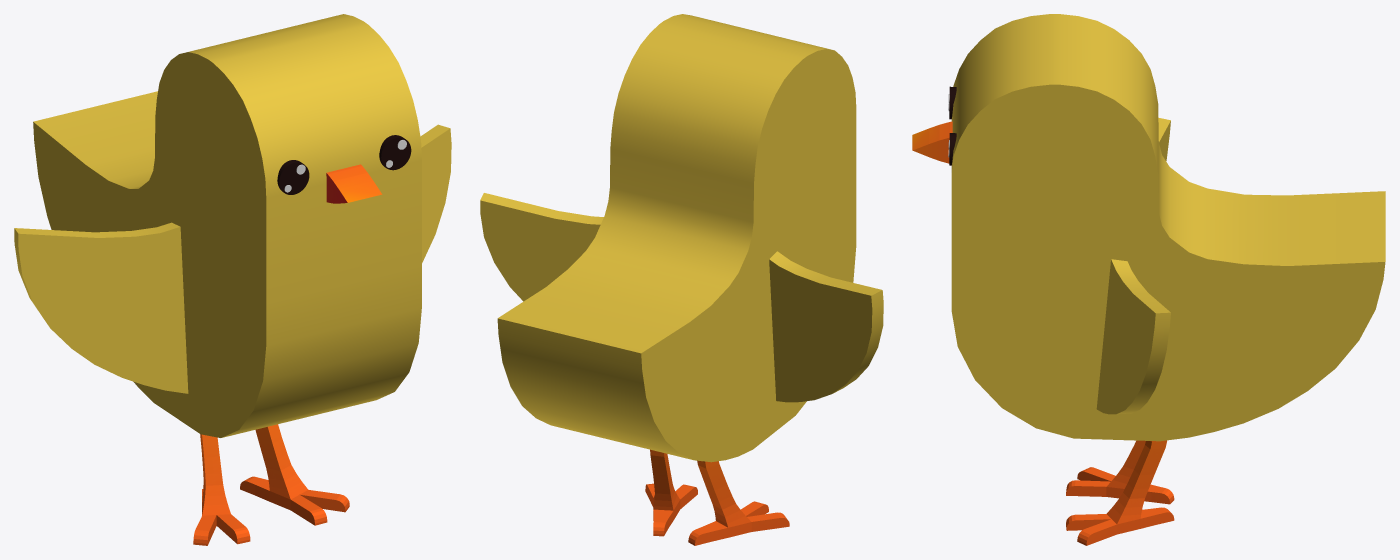
File: Front_Facing_Baby_Chick.gltf
The picture shows the model from 3 angles, left to right: view 1: azimuth 30°, elevation 25°; view 2: azimuth 150°, elevation 25°; view 3: azimuth 270°, elevation 25°; orthographic projection. The views are drawn at different scales.
Parts seen in each view (by area): view 1: Cube.6285, Circle.1946, Cube.6287, Cube.6286; view 2: Cube.6285, Circle.1946, Cube.6287; view 3: Cube.6285, Circle.1946, Cube.6287, Cube.6286.
Boxes of the visible parts, <box> form: Cube.6285: <box>33,14,421,437</box>; Circle.1946: <box>14,124,451,393</box>; Cube.6287: <box>193,424,349,545</box>; Cube.6286: <box>326,164,382,203</box>; Cube.6285: <box>497,14,856,462</box>; Circle.1946: <box>480,193,883,402</box>; Cube.6287: <box>645,449,789,545</box>; Cube.6285: <box>951,14,1385,441</box>; Circle.1946: <box>949,86,1170,414</box>; Cube.6287: <box>1066,440,1174,545</box>; Cube.6286: <box>912,121,952,163</box>.
Bounding box in the file's own units: 1.8 × 1.97 × 1.83.
4 materials, 1 textured.
